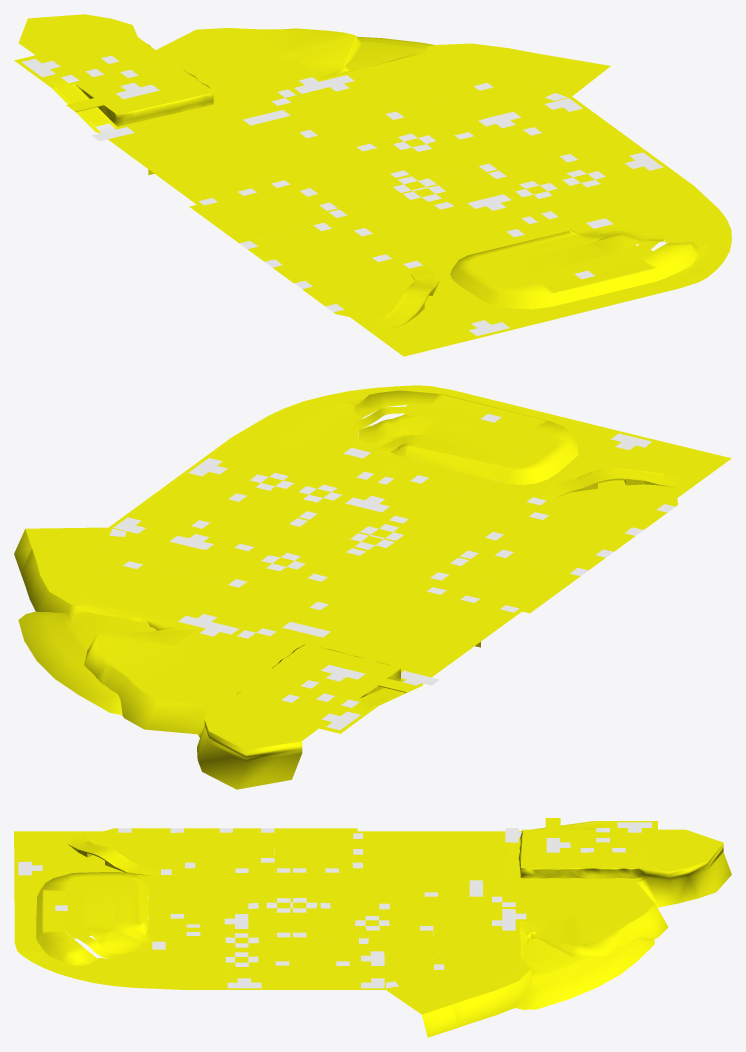
3 views of the same model, one above another, from view 1: azimuth 30°, elevation 25°; view 2: azimuth 150°, elevation 25°; view 3: azimuth 270°, elevation 25° (orthographic). The views are drawn at different scales.
Visible parts, largest first — view 1: road, TerrainBorderRoad, TerrainFloor, TerrainBorderRoad_001, rock_borderNew, sandMud_1; view 2: road, TerrainBorderRoad, TerrainFloor, TerrainBorderRoad_001, rock_borderNew, sandMud_1; view 3: road, TerrainBorderRoad, TerrainFloor, TerrainBorderRoad_001, rock_borderNew, sandMud_1.
Boxes of the visible parts, x1,y1,x2,y2 form: road: (18,50,727,354); TerrainBorderRoad: (32,52,708,347); TerrainFloor: (18,14,652,307); TerrainBorderRoad_001: (14,49,731,356); rock_borderNew: (76,35,699,309); sandMud_1: (345,36,434,70); road: (85,387,728,732); TerrainBorderRoad: (111,399,718,728); TerrainFloor: (25,396,625,749); TerrainBorderRoad_001: (80,385,731,733); rock_borderNew: (14,390,578,789); sandMud_1: (18,611,166,715); road: (18,818,657,988); TerrainBorderRoad: (35,828,657,981); TerrainFloor: (44,828,723,1014); TerrainBorderRoad_001: (14,818,657,989); rock_borderNew: (36,830,731,1037); sandMud_1: (515,931,654,1009).
Bounding box in the file's own units: 529 × 39.94 × 847.
Materials: 11 (9 with a texture image).
